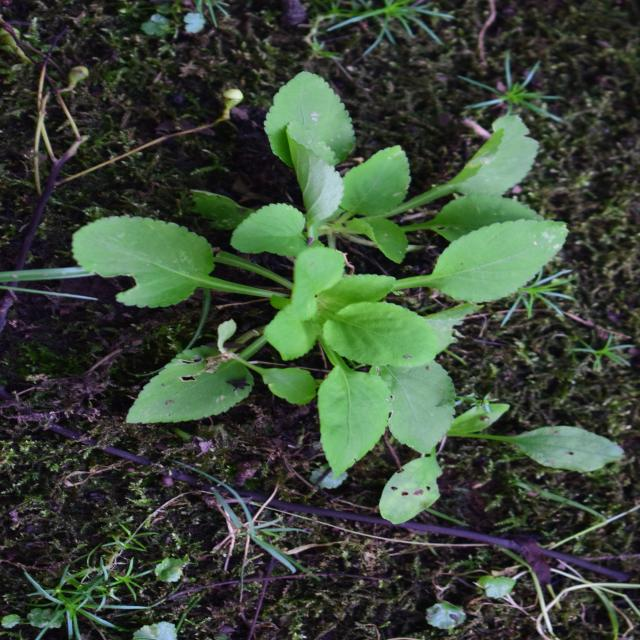Viola: (135, 90, 450, 503)
